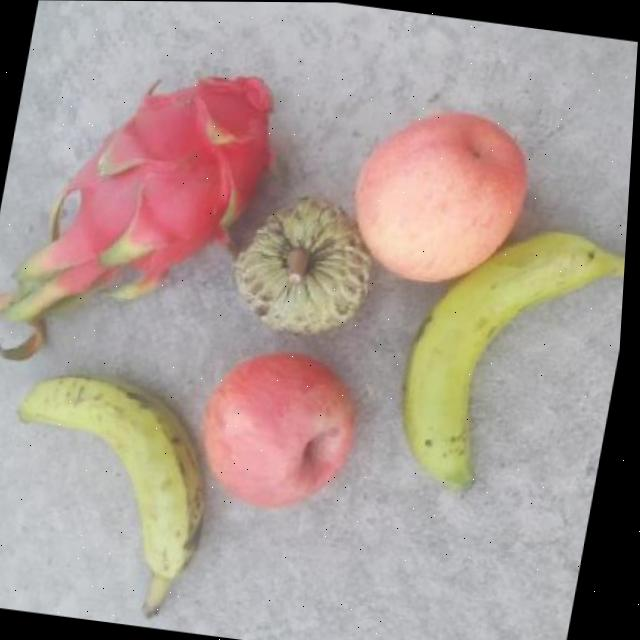Wet: (388, 196, 631, 509), (5, 75, 272, 320), (23, 375, 207, 618), (339, 95, 543, 295), (188, 339, 377, 519), (237, 197, 372, 332)
